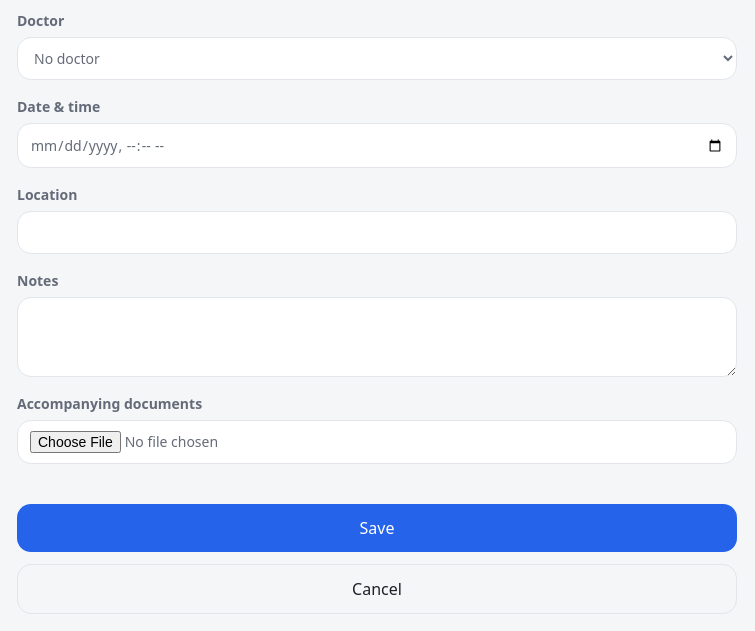
Test: AppointmentFormScreen › falls back to the doctor's clinic when address is blank
Select "Dr. Cole Park" in the dropdown labelled "Doctor" at (377, 58), box top-left (17, 37), bottom-right (737, 80)
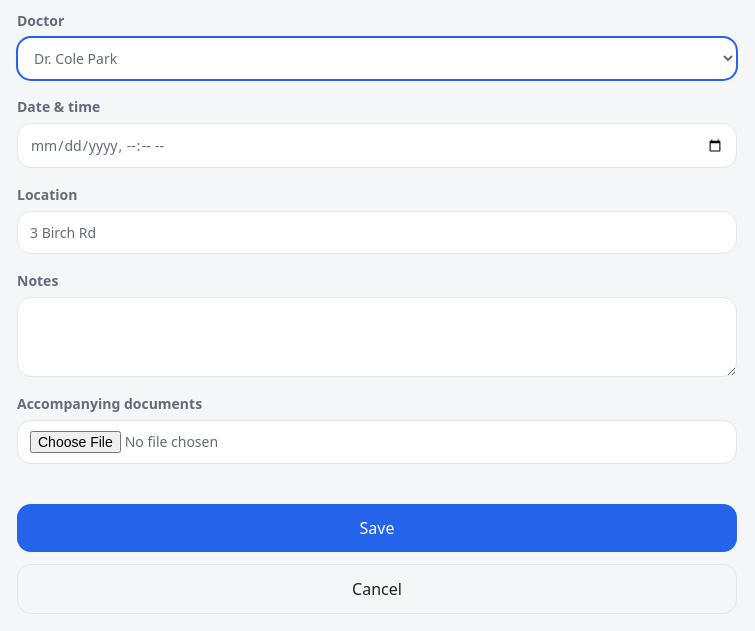
Expected: the field labelled "Location" holds "3 Birch Rd", top-left (17, 211), bottom-right (737, 254)
